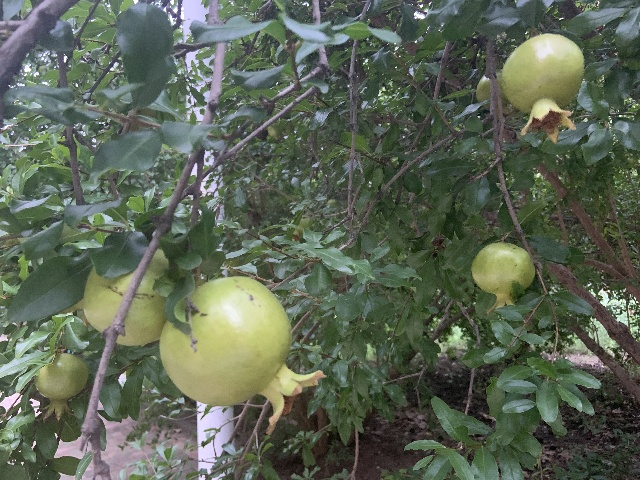mid-growth: (159, 276, 325, 434), (63, 248, 169, 345), (501, 33, 585, 143), (470, 241, 534, 313), (33, 353, 90, 422), (476, 68, 512, 120), (290, 214, 311, 243), (267, 122, 281, 141)
